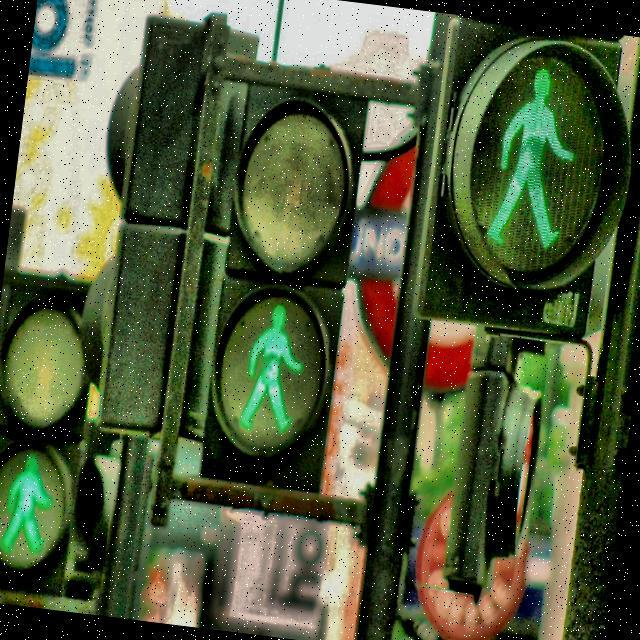green_light: (482, 59, 586, 255), (235, 297, 311, 440), (0, 446, 57, 560)
